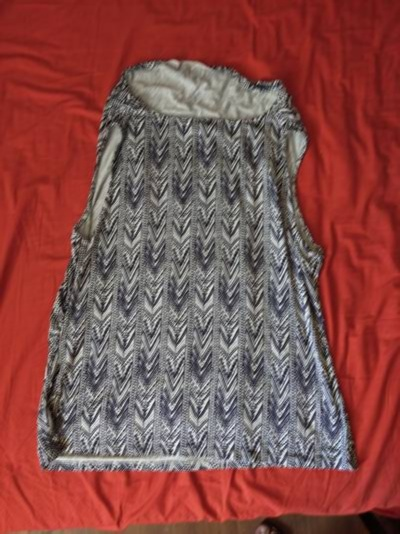Dress: (32, 41, 371, 494)
